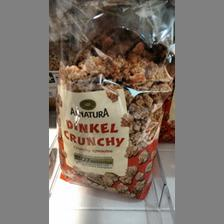Cerealien: (58, 42, 170, 198)
